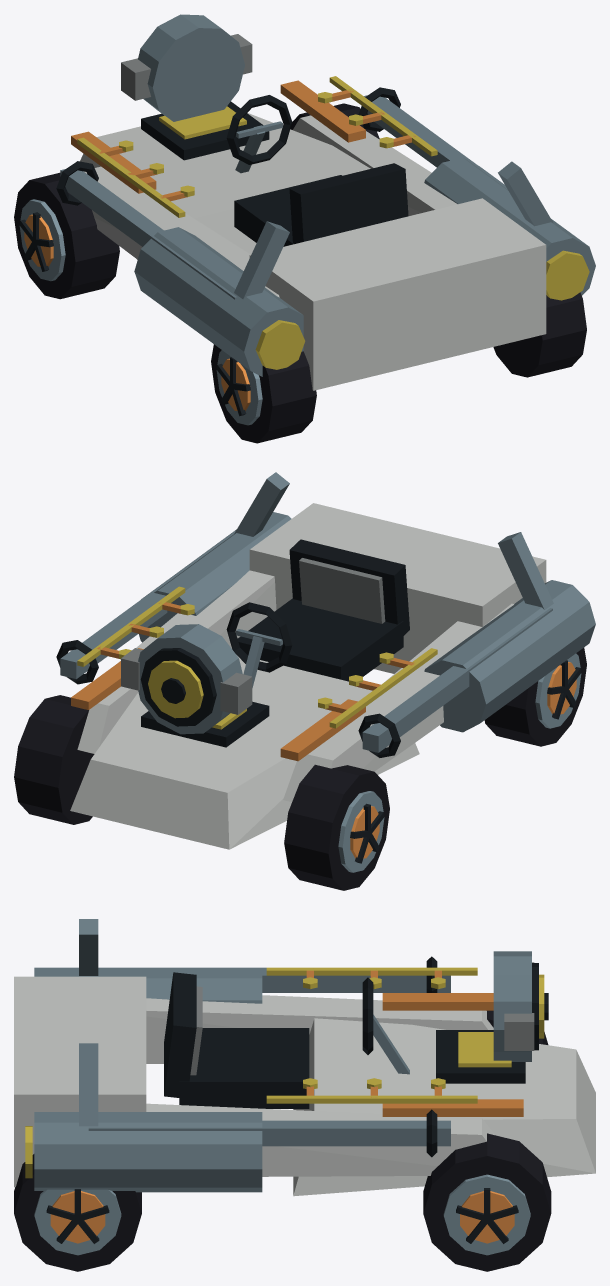
The model's file is kart.glb.
The picture shows the model from 3 angles, top to bottom: view 1: azimuth 30°, elevation 25°; view 2: azimuth 150°, elevation 25°; view 3: azimuth 270°, elevation 25°; orthographic projection. The views are drawn at different scales.
Visible parts, largest first — view 1: identity-lab-pod-lab-pod-segmented-shell, identity-lab-pod-driver-cockpit, identity-lab-pod-motif-pipes, identity-lab-pod-motif-optic, wheel-front-left, wheel-rear-left, wheel-rear-right, identity-lab-pod-motif-circuit; view 2: identity-lab-pod-lab-pod-segmented-shell, identity-lab-pod-driver-cockpit, identity-lab-pod-motif-pipes, wheel-front-left, identity-lab-pod-motif-optic, wheel-front-right, wheel-rear-left, identity-lab-pod-motif-circuit; view 3: identity-lab-pod-lab-pod-segmented-shell, identity-lab-pod-driver-cockpit, wheel-front-right, identity-lab-pod-motif-pipes, wheel-rear-right, identity-lab-pod-motif-optic, identity-lab-pod-motif-circuit.
Boxes of the visible parts, x1,y1,x2,y2 form: identity-lab-pod-lab-pod-segmented-shell: [71, 80, 595, 390]; identity-lab-pod-driver-cockpit: [226, 95, 408, 246]; identity-lab-pod-motif-pipes: [56, 87, 553, 299]; identity-lab-pod-motif-optic: [121, 14, 252, 121]; wheel-front-left: [14, 172, 119, 299]; wheel-rear-left: [211, 344, 316, 443]; wheel-rear-right: [493, 292, 586, 377]; identity-lab-pod-motif-circuit: [77, 76, 437, 217]; identity-lab-pod-lab-pod-segmented-shell: [70, 503, 595, 849]; identity-lab-pod-driver-cockpit: [226, 539, 409, 687]; identity-lab-pod-motif-pipes: [56, 472, 553, 757]; wheel-front-left: [284, 764, 389, 890]; identity-lab-pod-motif-optic: [121, 624, 252, 734]; wheel-front-right: [14, 695, 94, 824]; wheel-rear-left: [484, 647, 586, 746]; identity-lab-pod-motif-circuit: [77, 586, 437, 728]; identity-lab-pod-lab-pod-segmented-shell: [14, 967, 595, 1196]; identity-lab-pod-driver-cockpit: [164, 972, 409, 1108]; wheel-front-right: [423, 1133, 551, 1271]; identity-lab-pod-motif-pipes: [79, 919, 450, 1157]; wheel-rear-right: [14, 1154, 141, 1271]; identity-lab-pod-motif-optic: [493, 951, 548, 1061]; identity-lab-pod-motif-circuit: [266, 967, 477, 1103].
Size of the model in its own units: 1.98 by 1.22 by 2.73.
